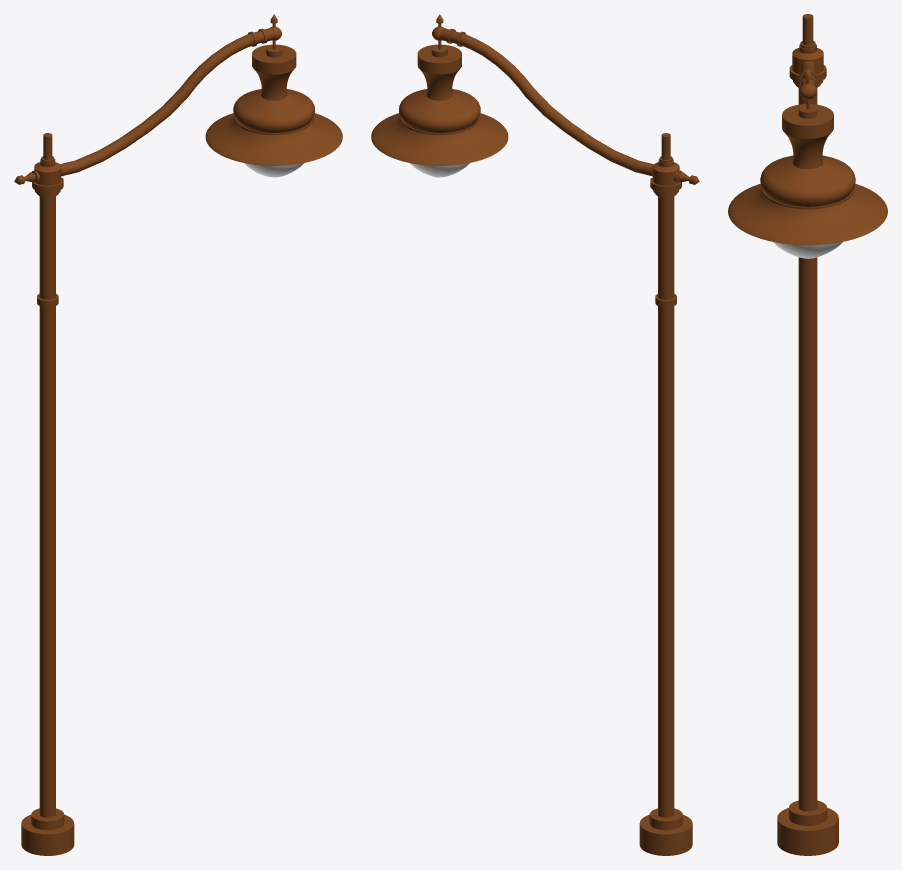
Rendered from lamp.glb.
3 renders of one model, left to right at view 1: azimuth 30°, elevation 25°; view 2: azimuth 150°, elevation 25°; view 3: azimuth 270°, elevation 25°, orthographic. The views are drawn at different scales.
Parts seen in each view (by area): view 1: Pole_Cylinder.005; view 2: Pole_Cylinder.005; view 3: Pole_Cylinder.005.
Part boxes in pixels (<box>): Pole_Cylinder.005: <box>14,14,342,855</box>; Pole_Cylinder.005: <box>371,14,699,855</box>; Pole_Cylinder.005: <box>728,14,887,855</box>.
Size of the model in its own units: 0.9772 by 2.27 by 0.3638.
